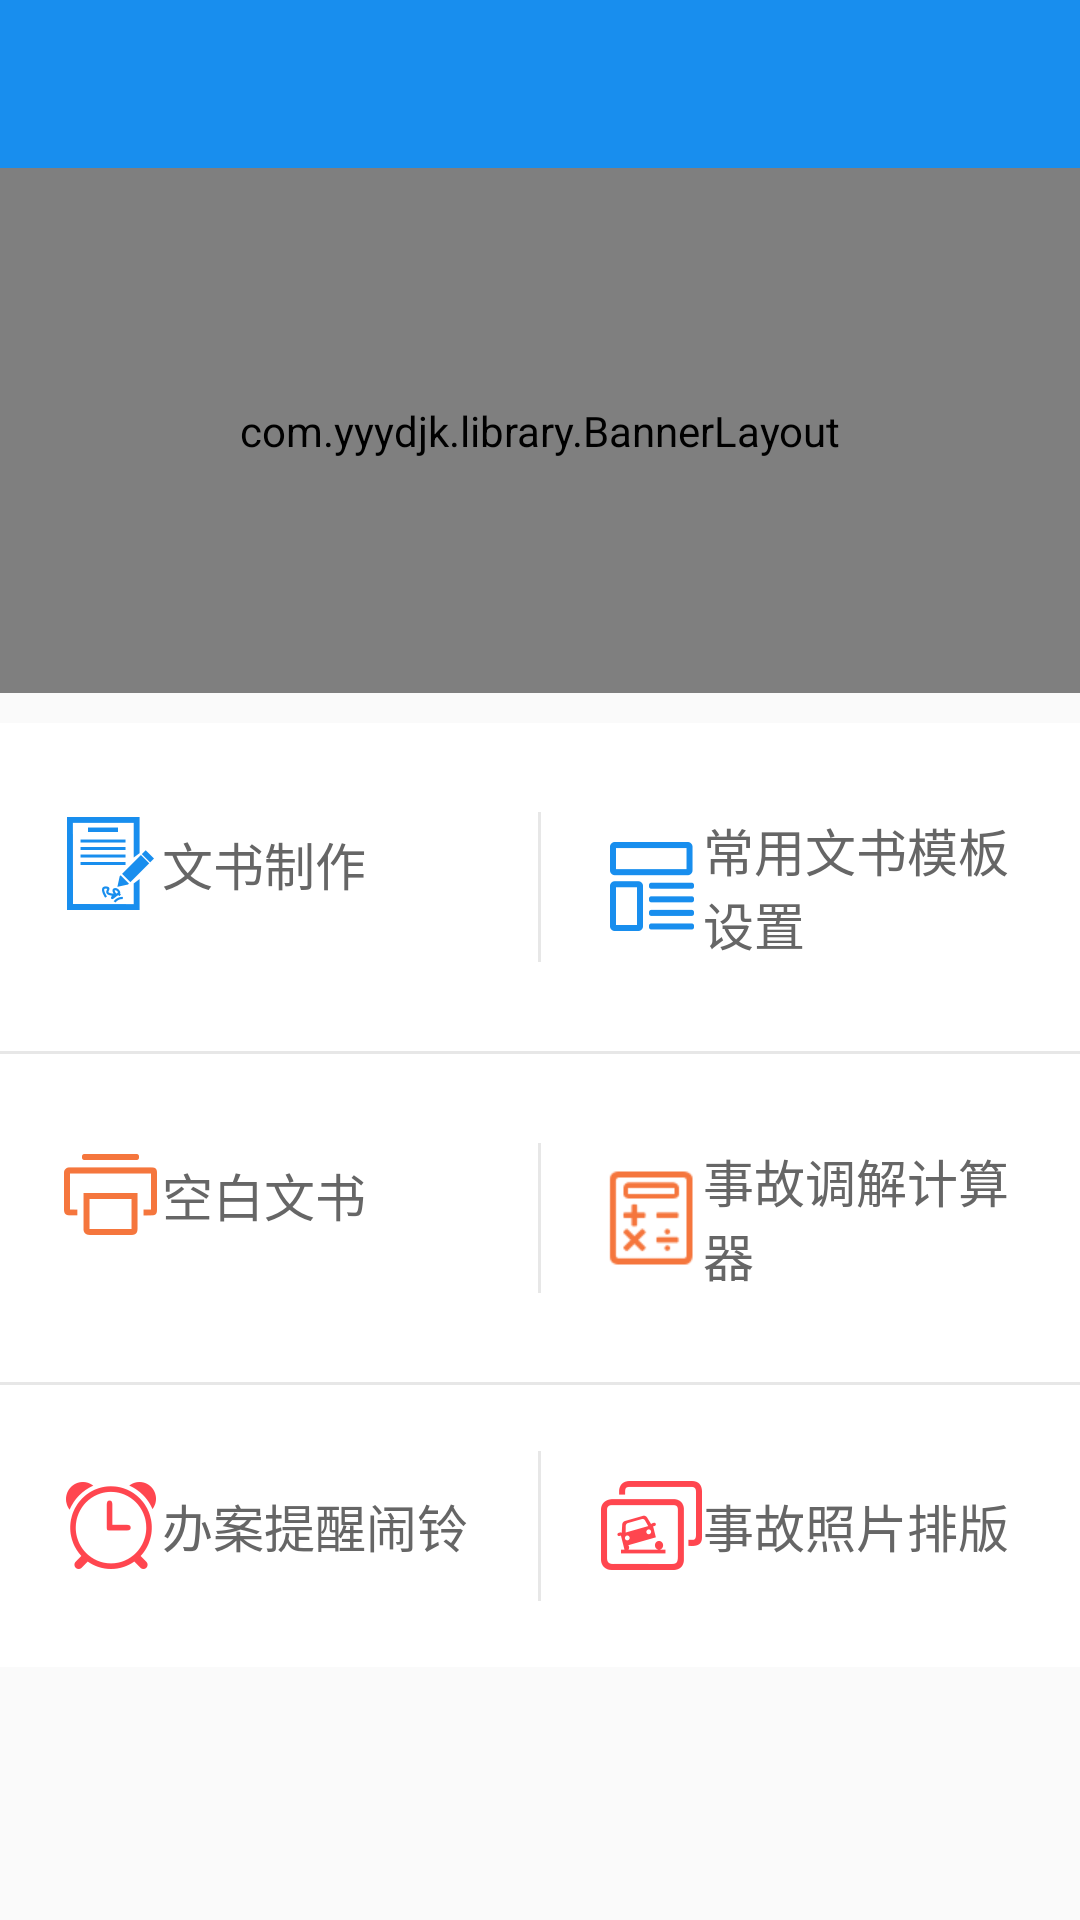

Icon click points for this 1080×1920 phone screenshot, format [x,y]:
home alarm: [111,1525]
home alculator: [651,1218]
home document make: [110,863]
home ocument template: [652,886]
